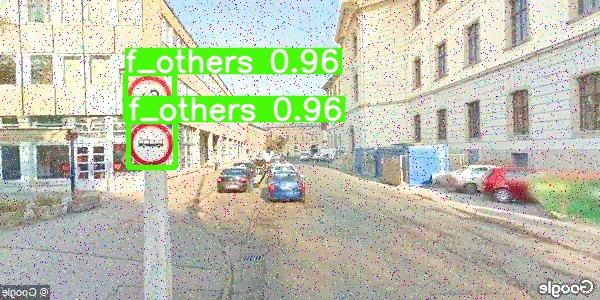f_others: (125, 74, 172, 120), (127, 121, 174, 167)
